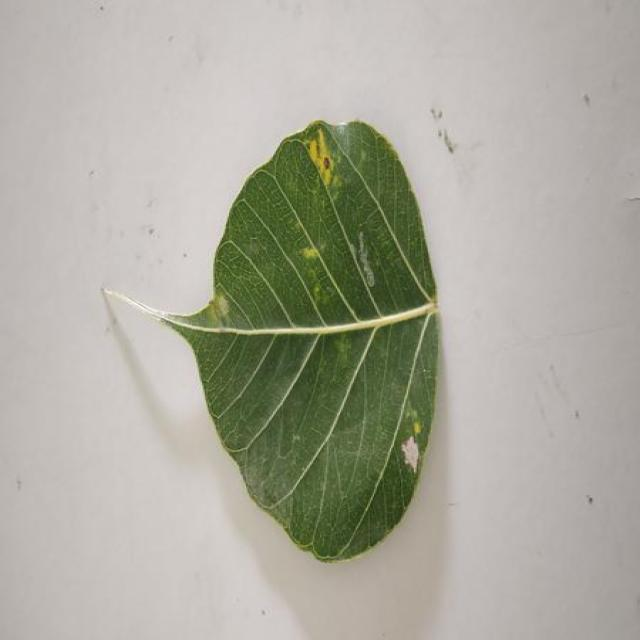arali: (107, 121, 438, 561)
defected arali: (118, 121, 438, 561)
